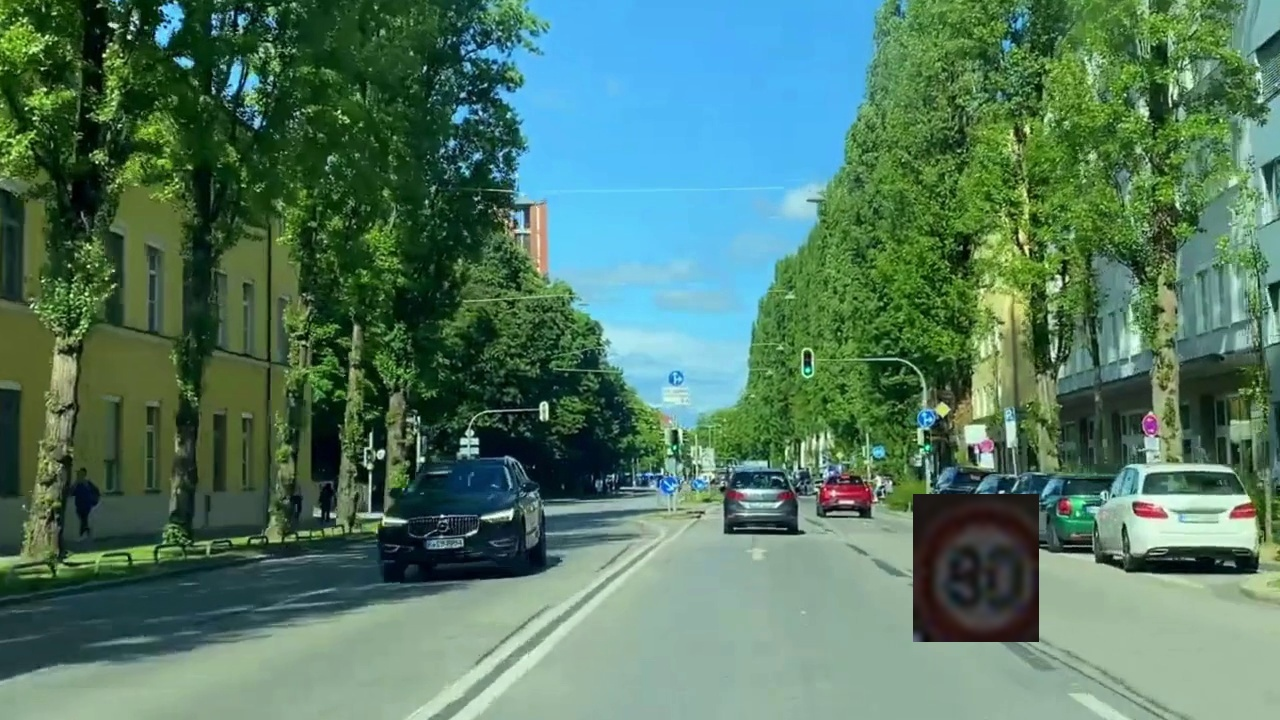Speed 80: (913, 494, 1039, 642)
